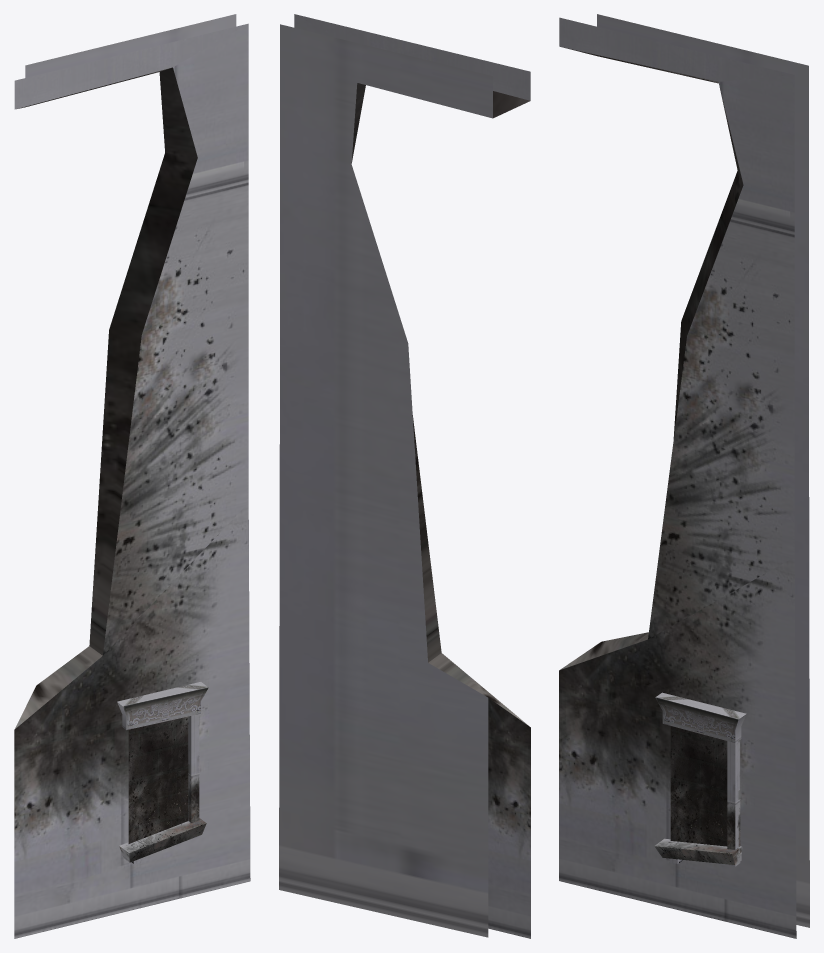
File: brackBruch.obj
3 renders of one model, left to right at view 1: azimuth 30°, elevation 25°; view 2: azimuth 150°, elevation 25°; view 3: azimuth 330°, elevation 25°, orthographic.
Visible parts, largest first — view 1: polySurface188; view 2: polySurface188; view 3: polySurface188.
Part boxes in pixels (x1,y1,x2,y2): polySurface188: [14, 14, 250, 938]; polySurface188: [279, 14, 530, 938]; polySurface188: [559, 14, 809, 938].
Size of the model in its own units: 1.05 by 3.65 by 0.1825.
Materials: 1 (1 with a texture image).
